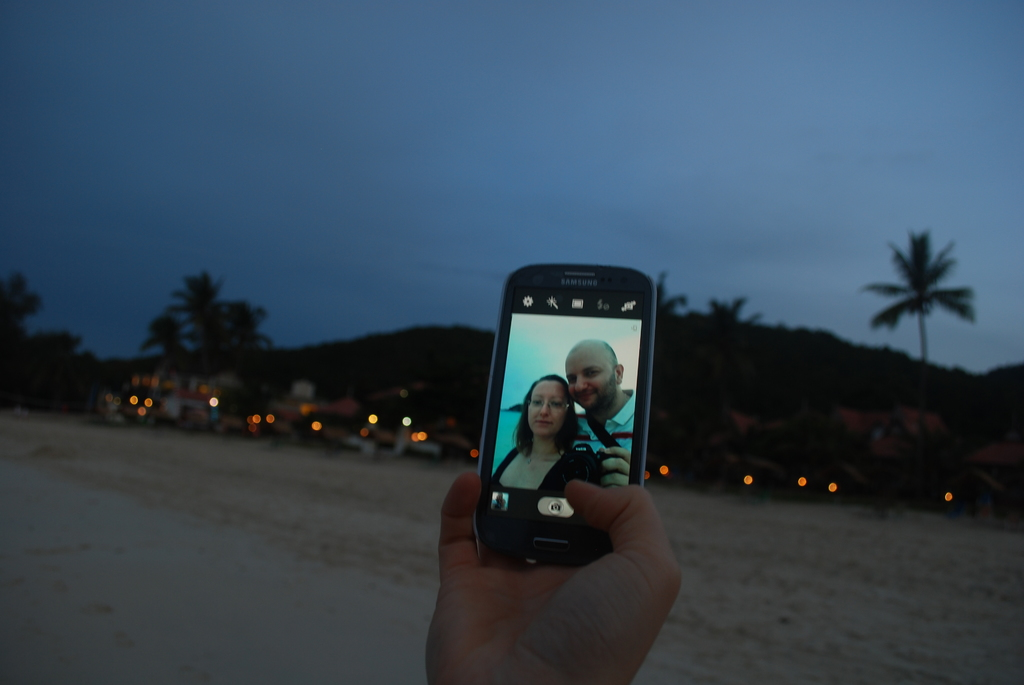Mobile-phone: (475, 262, 659, 582)
